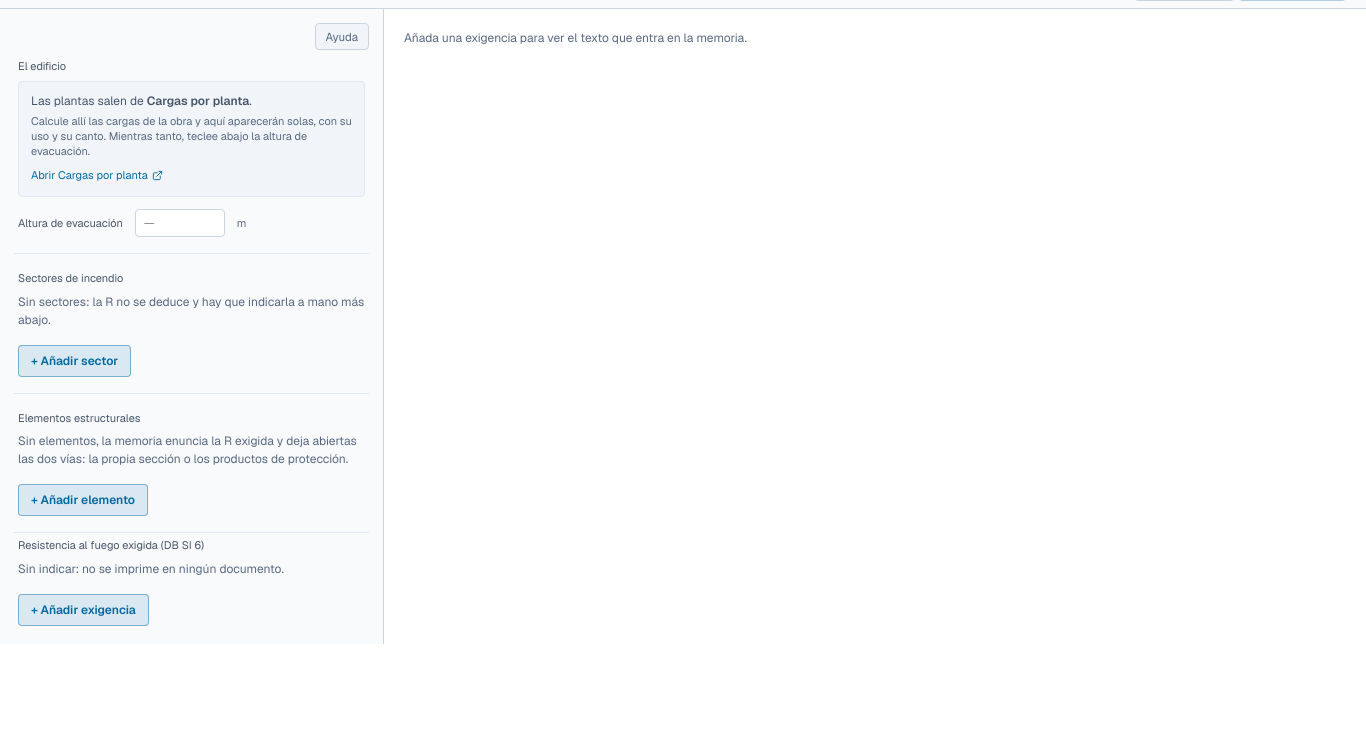
Scenario: los sectores, de la tabla 3.1 a la pantalla › un sector sin decir qué es queda como hueco
Click the button "+ Añadir sector".
click(75, 361)  # box [18,345,131,377]
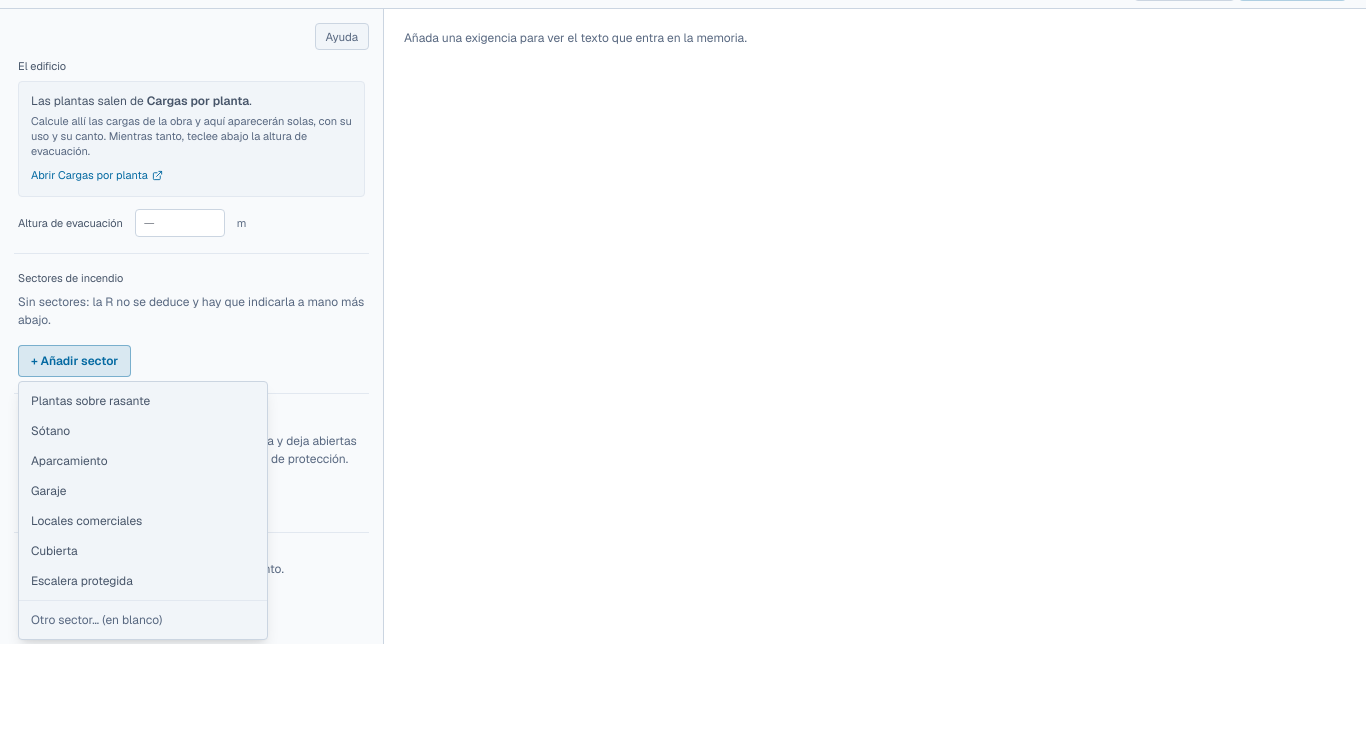
Click the menu item "Sótano".
click(143, 431)  # box [19,416,267,446]
(page scrolled)
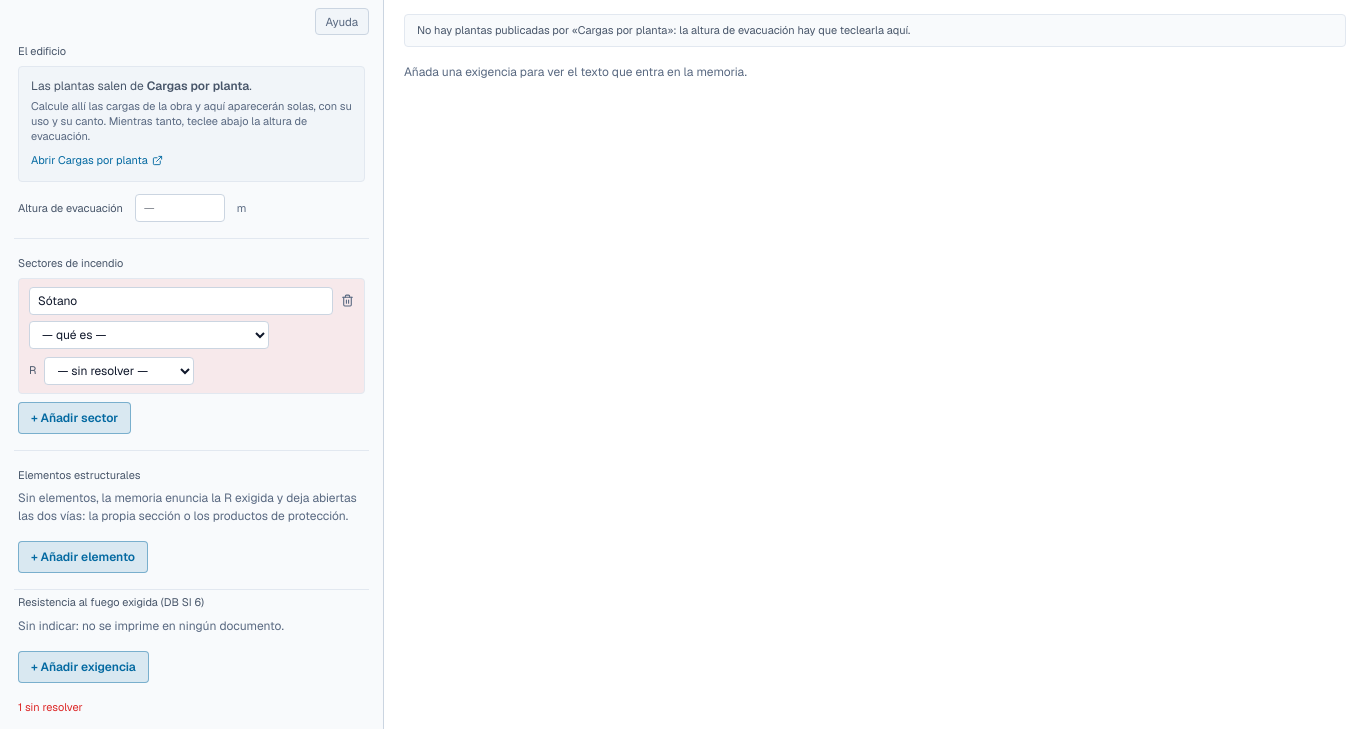
Now the text "1 sin resolver" is shown, box [18,700,83,714]
